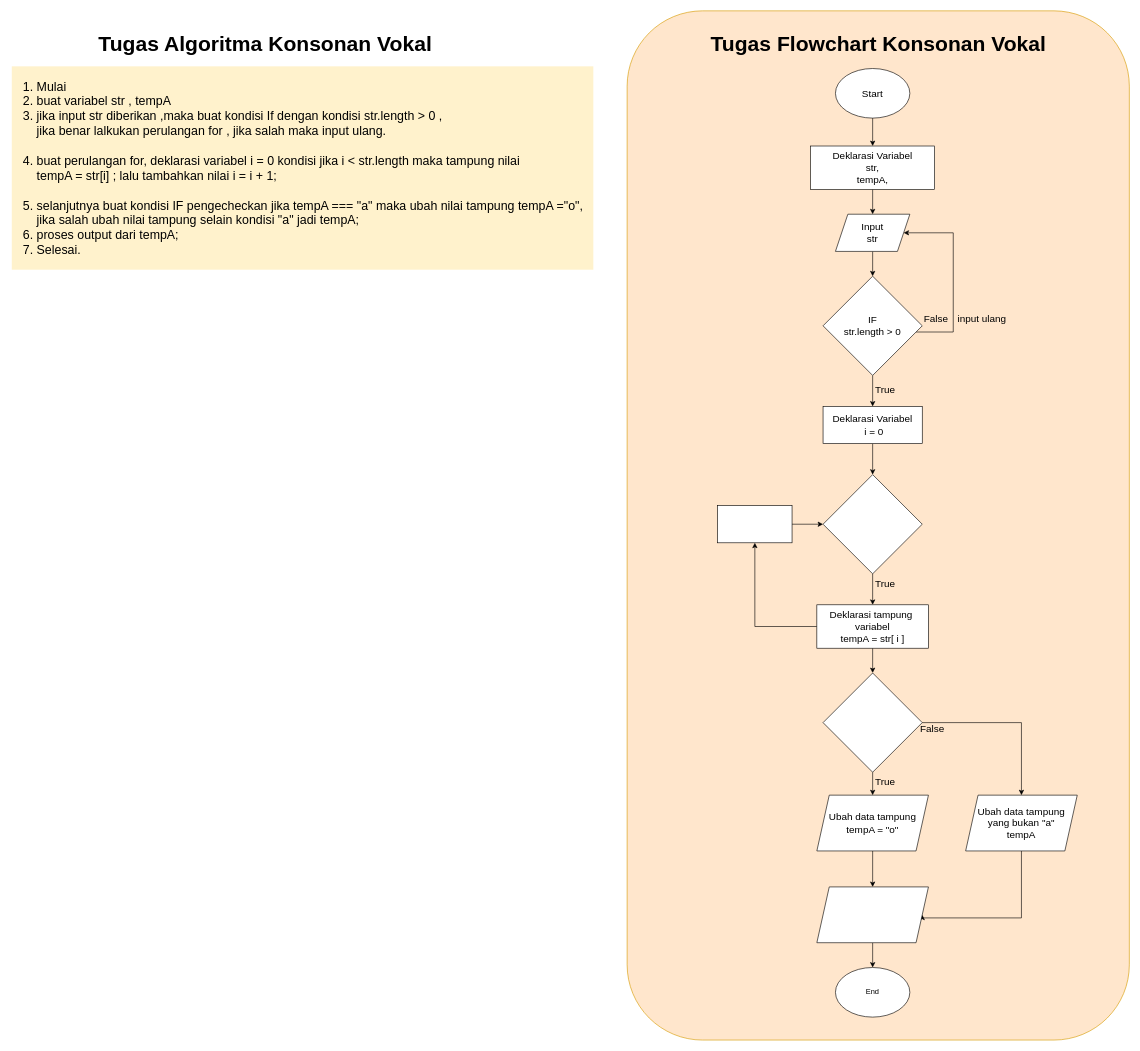
The diagram is 1140 pixels wide and 1051 high, and some of its shapes have lost their labels. Each missing label, with the centre of its shape:
For i < str.length: (872,524)
IF tempA === "a": (872,722)
increment i = i + 1: (754,524)
Proses Output Hasil tempA: (872,914)
